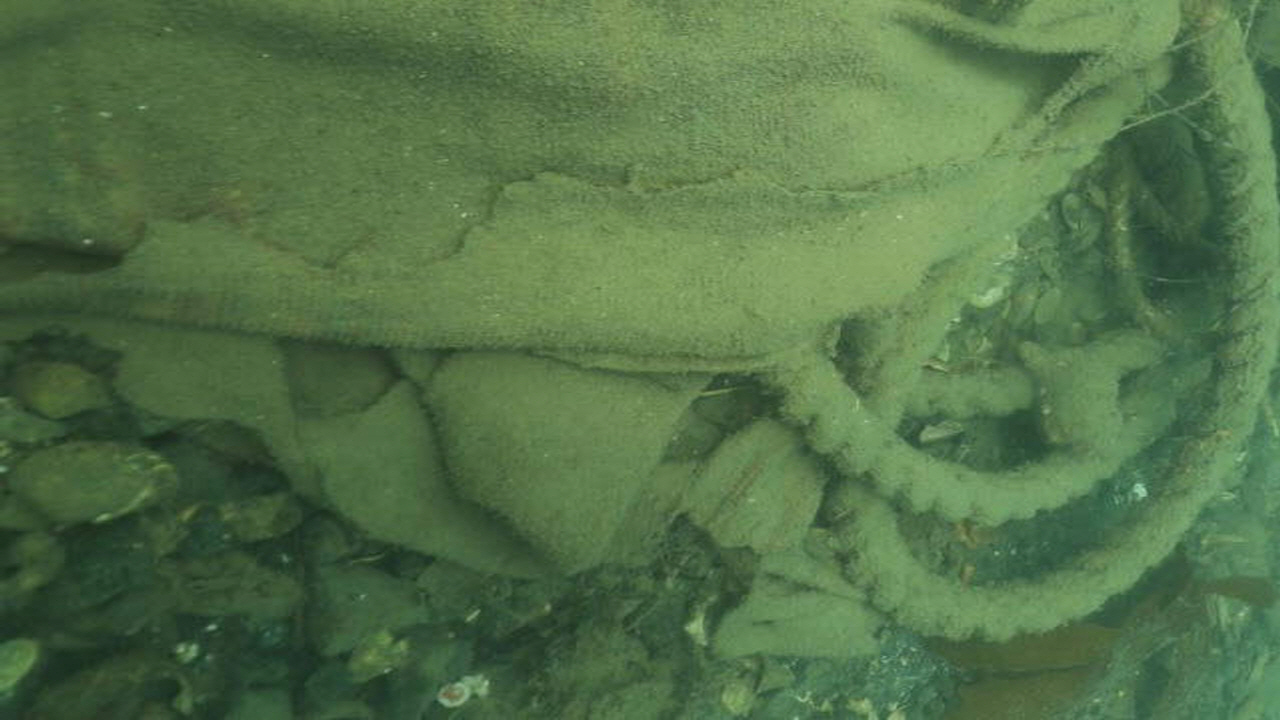bundle of ropes: (748, 5, 1279, 642)
